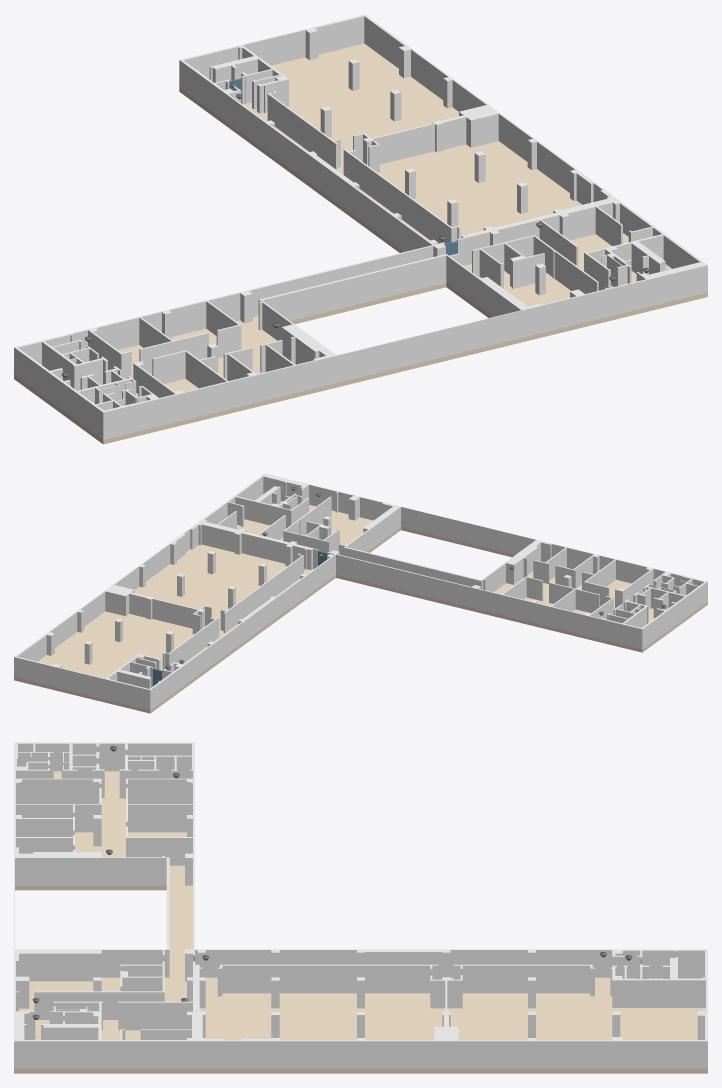
The model's file is floor_11.gltf.
3 views of the same model, one above another, from view 1: azimuth 30°, elevation 25°; view 2: azimuth 150°, elevation 25°; view 3: azimuth 270°, elevation 25° (orthographic). The views are drawn at different scales.
Parts seen in each view (by area): view 1: wall_11, floor_11; view 2: wall_11, floor_11; view 3: wall_11, floor_11.
Part boxes in pixels (x1,y1,x2,y2): wall_11: (14,14,707,439); floor_11: (14,43,707,444); wall_11: (14,473,707,710); floor_11: (14,501,707,713); wall_11: (14,742,707,1068); floor_11: (14,771,707,1073).
Bounding box in the file's own units: 69.5 × 3.51 × 68.2.
